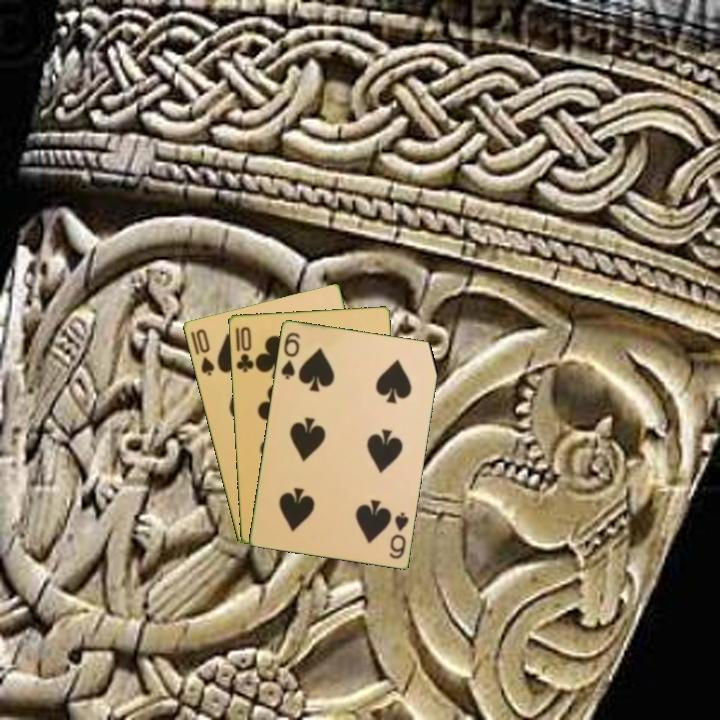10c: (233, 323, 256, 375)
10s: (192, 325, 217, 378)
6s: (277, 328, 303, 382), (385, 508, 411, 561)
